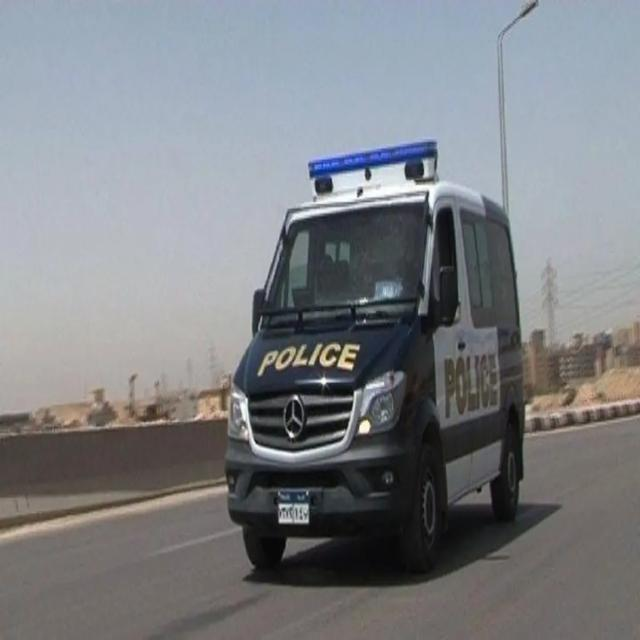police-car: (223, 137, 526, 574)
